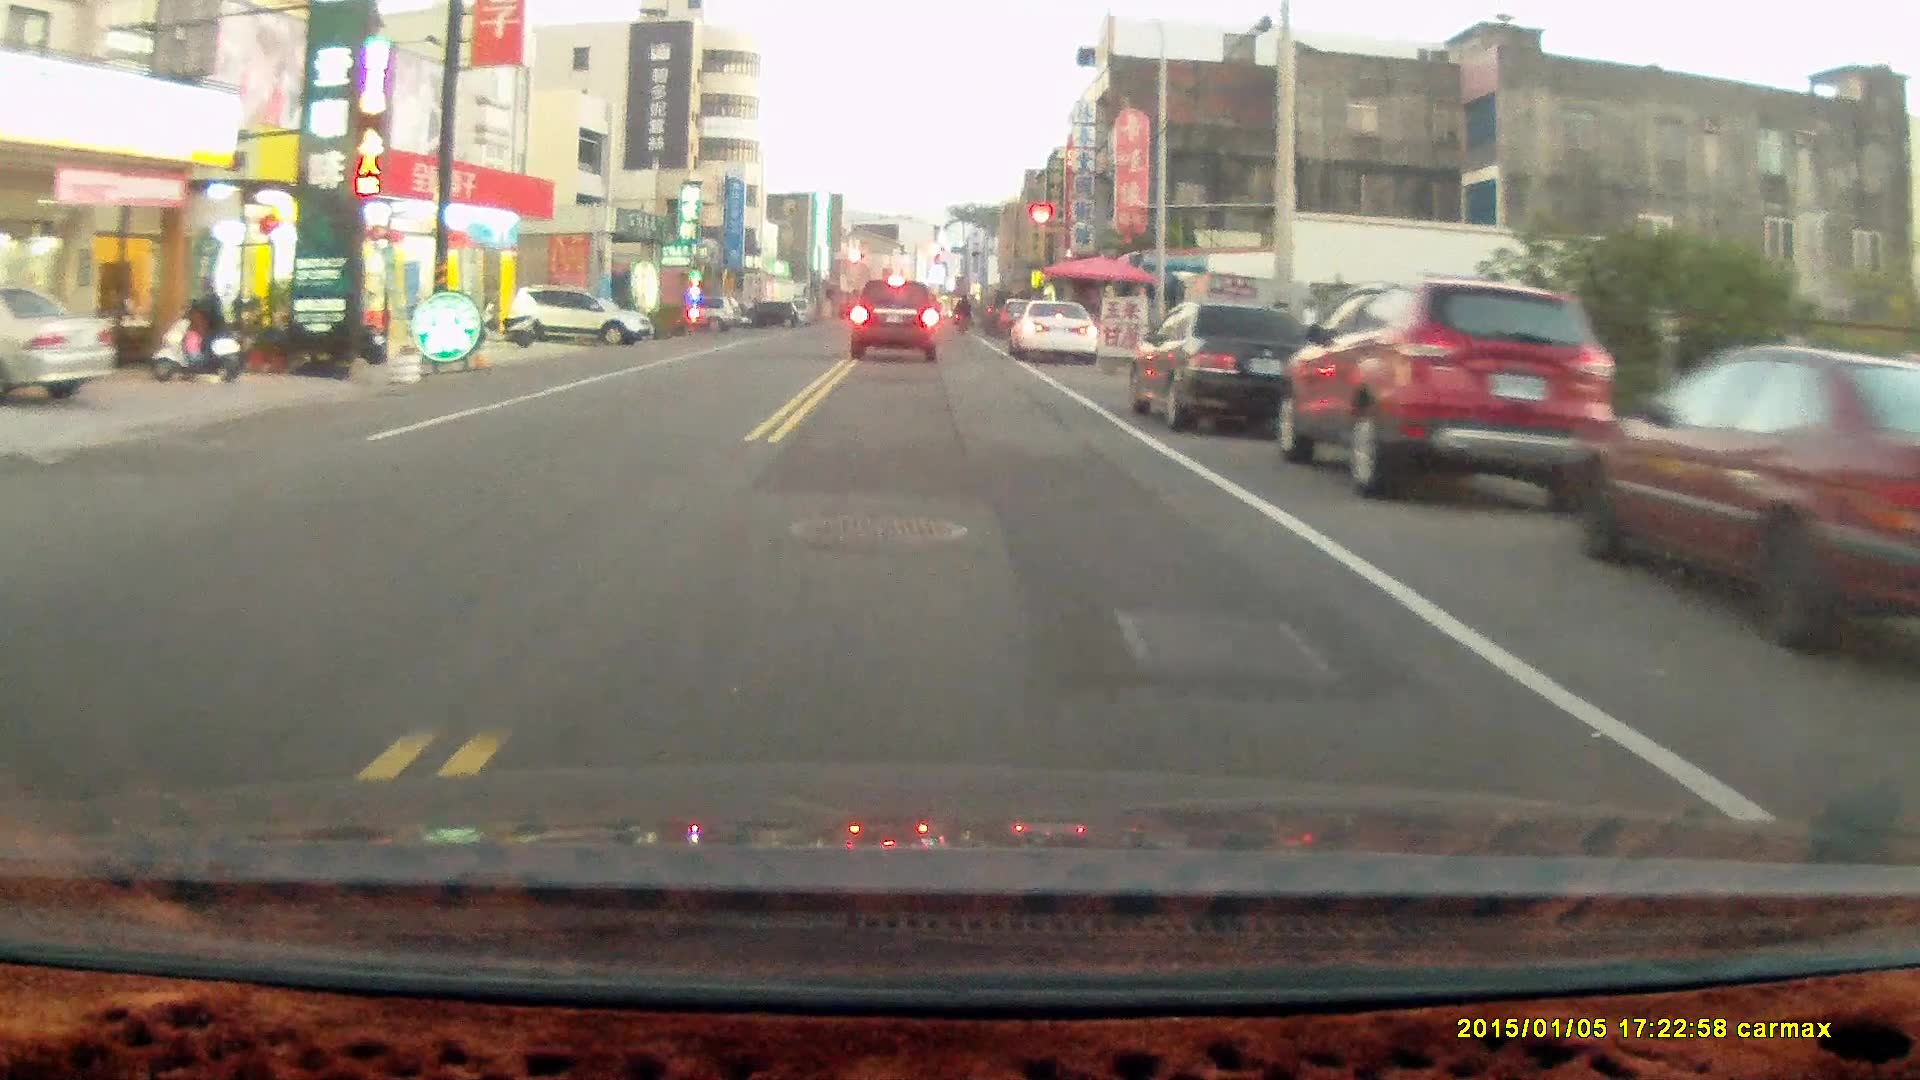vehicle: (1569, 344, 1920, 666), (1282, 280, 1615, 501), (1126, 297, 1307, 439), (1, 287, 117, 404), (509, 282, 659, 353), (851, 277, 940, 363), (1010, 301, 1101, 367)
